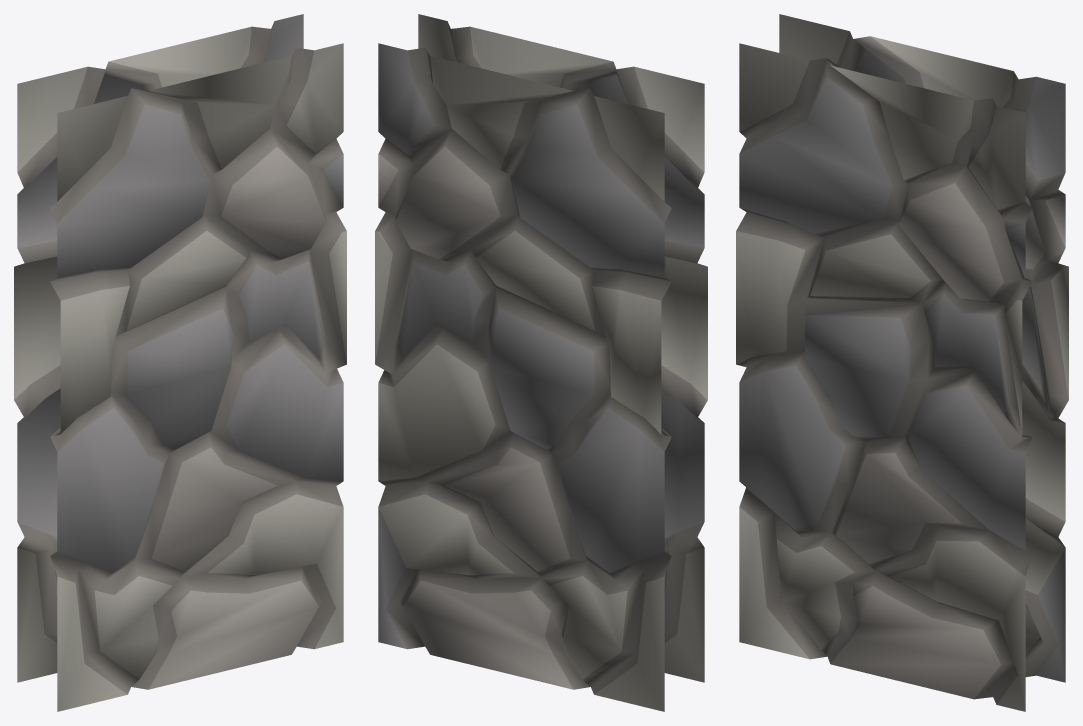
Rendered from rpgpp_ag_wall_03_1.5x3_a.fbx.
3 views of the same model, side by side, from view 1: azimuth 30°, elevation 25°; view 2: azimuth 150°, elevation 25°; view 3: azimuth 330°, elevation 25° (orthographic).
Parts seen in each view (by area): view 1: rpgpp_ag_wall_03_1.5x3_a; view 2: rpgpp_ag_wall_03_1.5x3_a; view 3: rpgpp_ag_wall_03_1.5x3_a.
Boxes of the visible parts, x1,y1,x2,y2 form: rpgpp_ag_wall_03_1.5x3_a: [14, 14, 346, 711]; rpgpp_ag_wall_03_1.5x3_a: [375, 14, 707, 711]; rpgpp_ag_wall_03_1.5x3_a: [736, 14, 1068, 711].
Bounding box in the file's own units: 1.5 × 3 × 0.4229.
